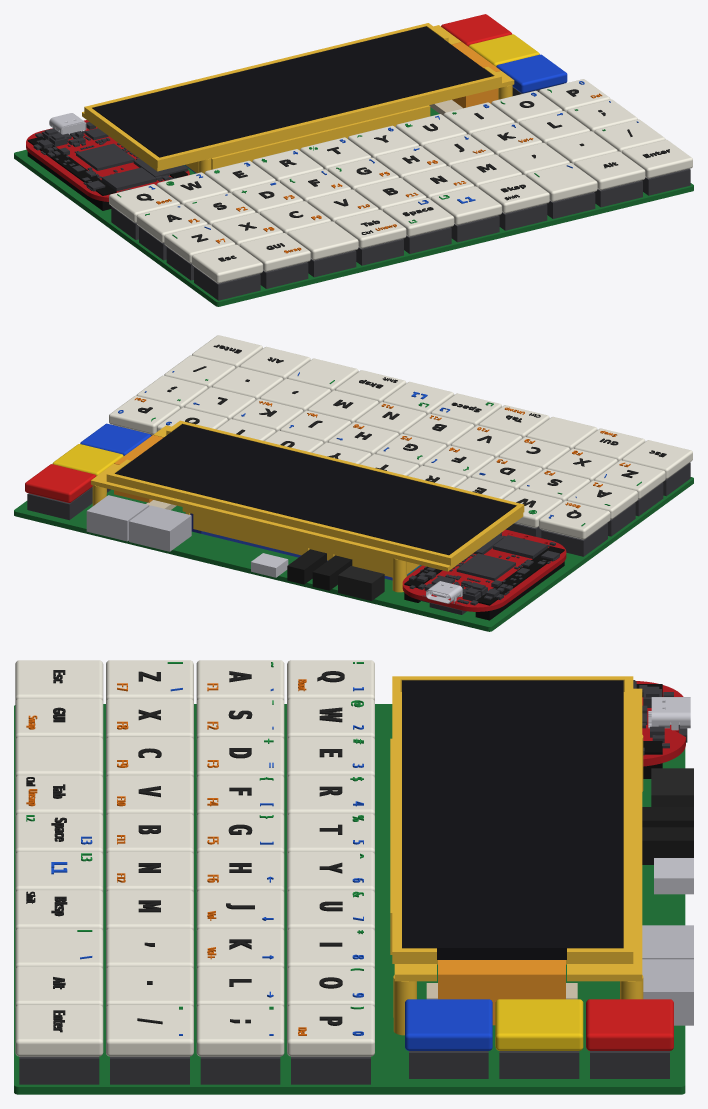
File: device.glb
3 views of the same model, one above another, from view 1: azimuth 30°, elevation 25°; view 2: azimuth 150°, elevation 25°; view 3: azimuth 270°, elevation 25° (orthographic). The views are drawn at different scales.
Parts seen in each view (by area): view 1: Panel, Display_chassis, Main_PCB, PB2_PCB, Cap_r3c0, Mode_key3, Cap_r3c2, Cap_r3c7, Cap_r3c8, Cap_r3c5, Cap_r3c9, Cap_r3c3 (+53 smaller); view 2: Panel, Display_chassis, Main_PCB, PB2_PCB, USB_A1, USB_A2, Mode_key1, Cap_r0c0, Cap_r0c9, Cap_r3c0, Cap_r1c0, Cap_r2c0 (+52 smaller); view 3: Panel, Main_PCB, Display_chassis, FPC_fold, Cap_r1c9, Mode_key2, Cap_r2c9, Mode_key1, Mode_key3, Cap_r3c9, Cap_r0c9, Cap_r3c2 (+50 smaller).
Boxes of the visible parts, x1,y1,x2,y2 form: Panel: (92, 26, 493, 157); Display_chassis: (82, 23, 514, 173); Main_PCB: (14, 107, 693, 306); PB2_PCB: (26, 120, 189, 201); Cap_r3c0: (191, 244, 262, 283); Mode_key3: (496, 54, 567, 93); Cap_r3c2: (287, 221, 358, 260); Cap_r3c7: (526, 163, 597, 201); Cap_r3c8: (574, 151, 645, 190); Cap_r3c5: (430, 186, 501, 225); Cap_r3c9: (622, 139, 692, 178); Cap_r3c3: (335, 209, 406, 248); Panel: (115, 424, 516, 555); Display_chassis: (91, 420, 524, 592); Main_PCB: (14, 477, 693, 631); PB2_PCB: (402, 529, 566, 611); USB_A1: (129, 505, 191, 551); USB_A2: (86, 495, 149, 541); Mode_key1: (25, 464, 95, 502); Cap_r0c0: (539, 500, 610, 539); Cap_r0c9: (109, 395, 180, 434); Cap_r3c0: (622, 440, 692, 478); Cap_r1c0: (566, 480, 637, 519); Cap_r2c0: (594, 460, 665, 499); Panel: (402, 680, 623, 959); Main_PCB: (14, 704, 685, 1094); Display_chassis: (390, 676, 643, 1035); FPC_fold: (438, 960, 565, 1025); Cap_r1c9: (196, 1004, 284, 1056); Mode_key2: (495, 999, 583, 1050); Cap_r2c9: (106, 1004, 193, 1056); Mode_key1: (586, 999, 673, 1050); Mode_key3: (405, 999, 492, 1050); Cap_r3c9: (15, 1004, 103, 1056); Cap_r0c9: (287, 1004, 374, 1056); Cap_r3c2: (15, 736, 103, 778).
Bounding box in the file's own units: 0.17 × 0.0166 × 0.1276.
